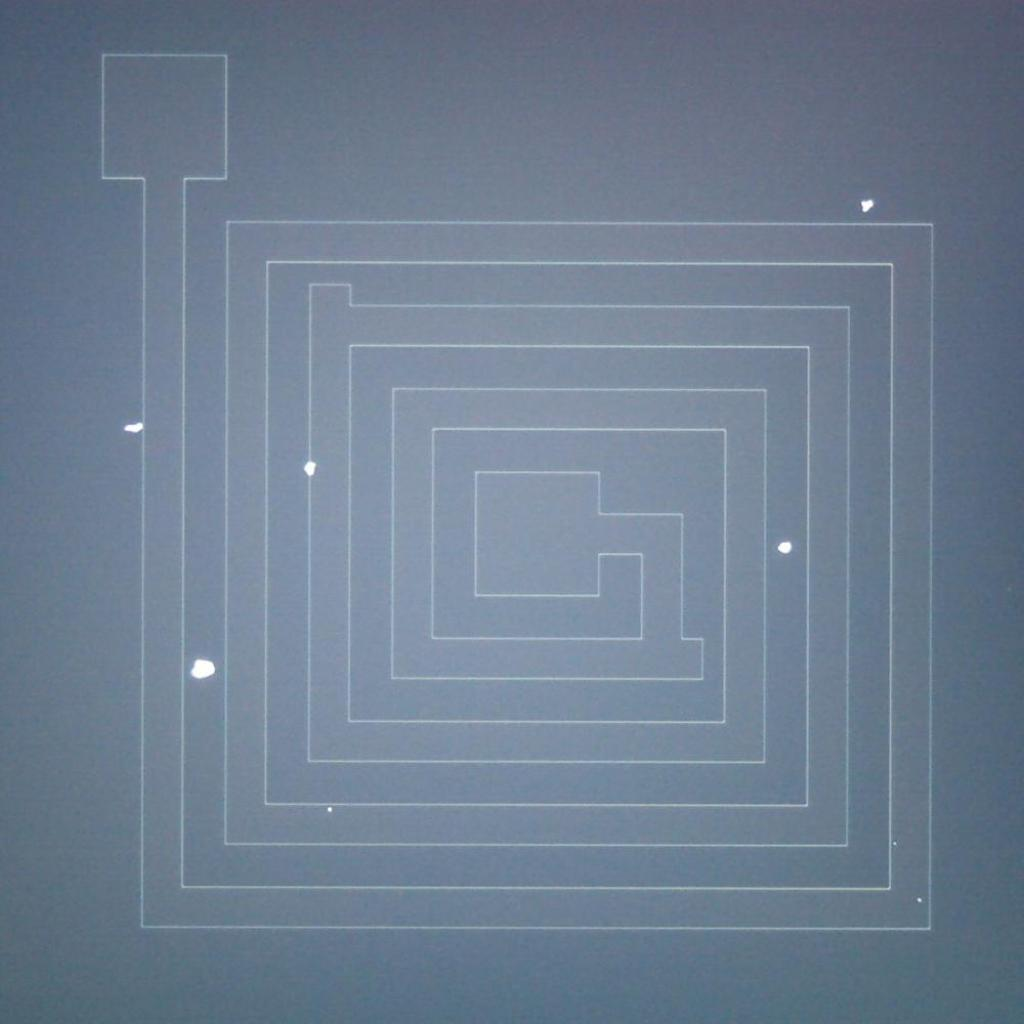Bdot: (192, 656, 216, 683)
dot: (302, 461, 318, 477), (861, 199, 874, 214), (779, 541, 792, 555), (133, 422, 142, 432), (124, 424, 132, 432), (918, 898, 922, 902), (328, 808, 332, 812), (893, 842, 897, 846)
